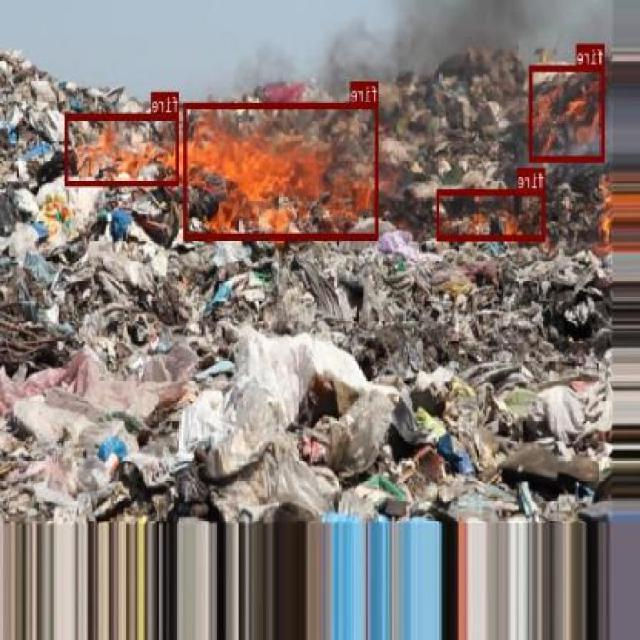Fire: (183, 102, 380, 238), (66, 112, 180, 185), (530, 66, 606, 160), (438, 188, 546, 240)
